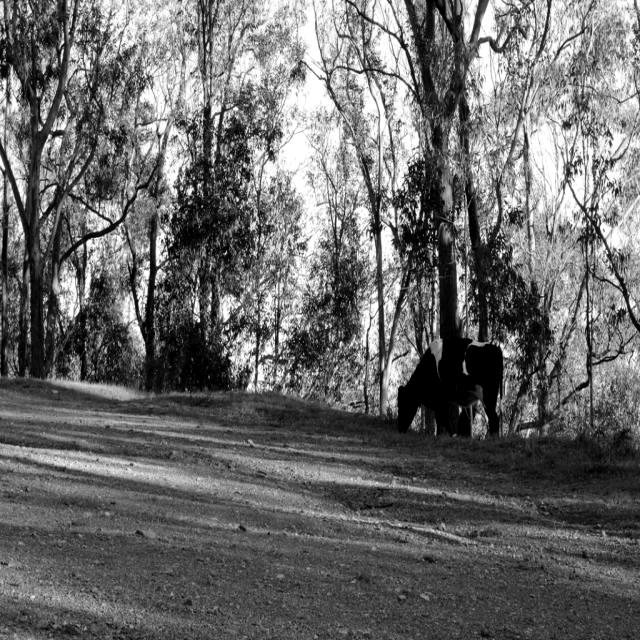COW: (399, 338, 504, 434)
